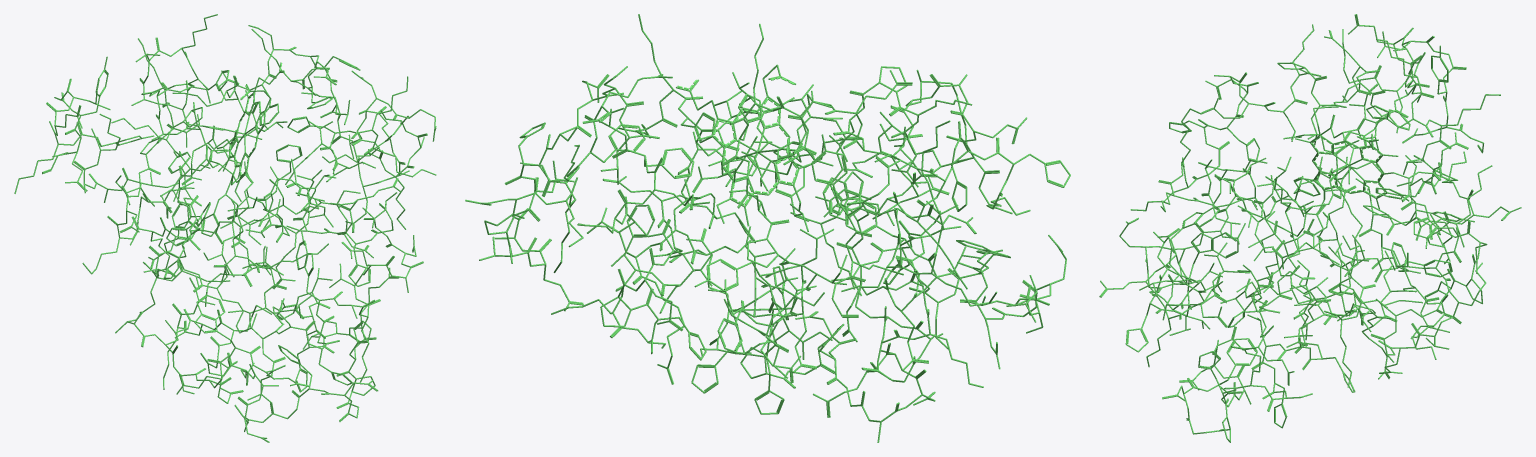
File: 1mbn__lines__chain.glb
The picture shows the model from 3 angles, left to right: view 1: azimuth 30°, elevation 25°; view 2: azimuth 150°, elevation 25°; view 3: azimuth 270°, elevation 25°; orthographic projection. The views are drawn at different scales.
Parts seen in each view (by area): view 1: Renderer Node; view 2: Renderer Node; view 3: Renderer Node.
Boxes of the visible parts, left/top/right/bottom form: Renderer Node: left=14, top=14, right=436, bottom=442; Renderer Node: left=465, top=14, right=1070, bottom=442; Renderer Node: left=1099, top=14, right=1521, bottom=442.
Size of the model in its own units: 42.81 by 38.98 by 39.04.
